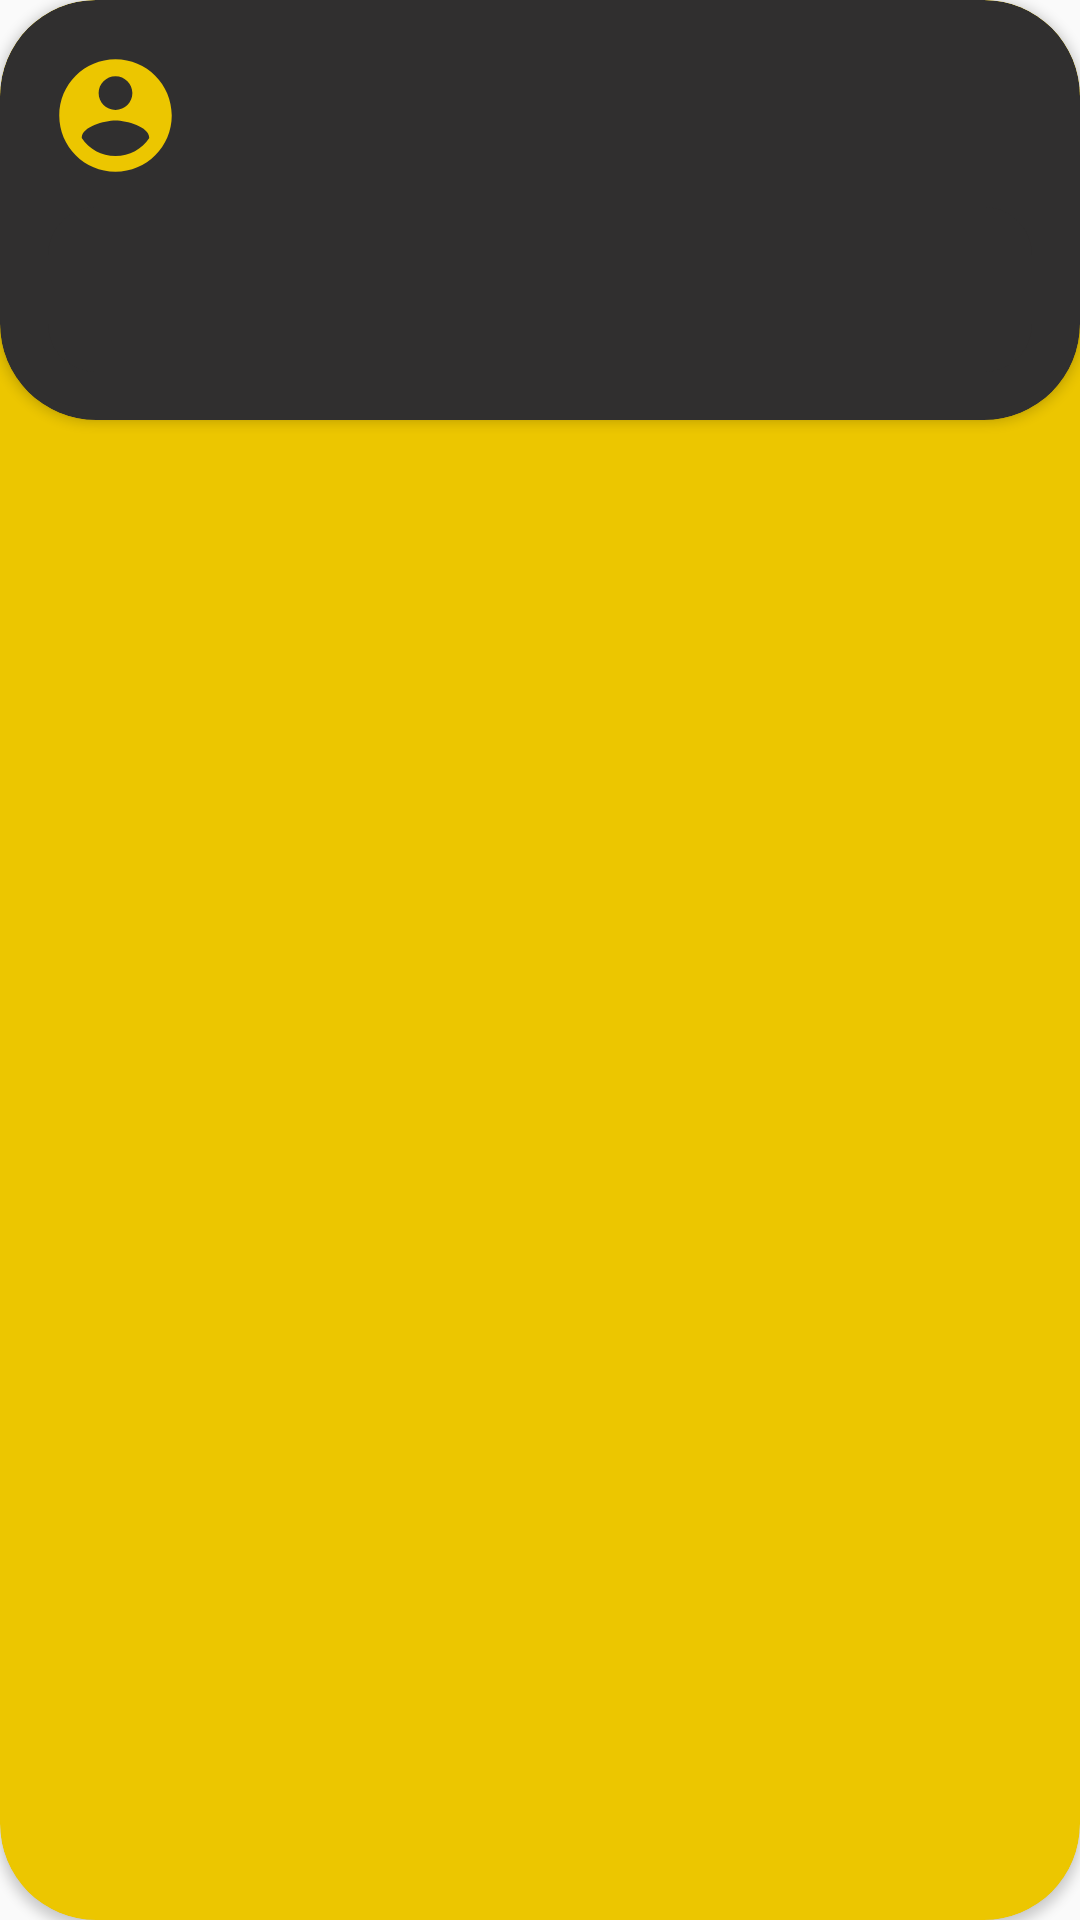

Where icons sit on this 1080×1920 app screen, as (x1, y1, x2, y2):
account circle: (59, 59, 172, 172)
